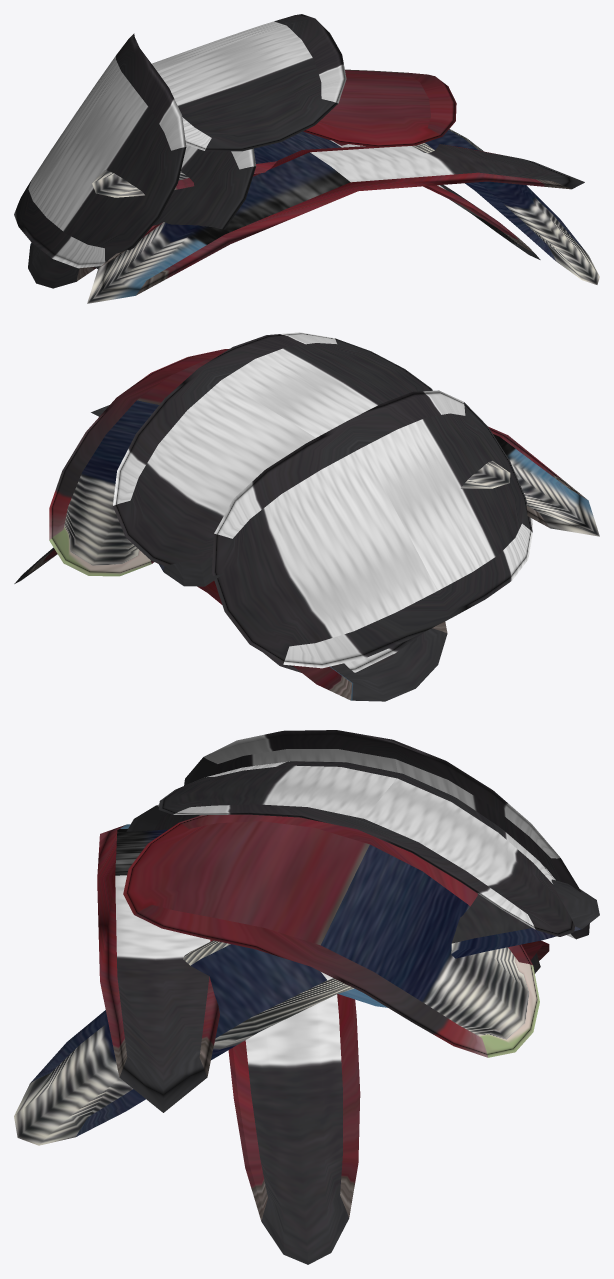
File: Monton ropa.fbx
3 views of the same model, one above another, from view 1: azimuth 30°, elevation 25°; view 2: azimuth 150°, elevation 25°; view 3: azimuth 270°, elevation 25° (orthographic). The views are drawn at different scales.
Parts seen in each view (by area): view 1: Cube.007, Cube.005, Cube.006, Cube.003, Cube.004, Cube.001, Cube, Cube.002; view 2: Cube.007, Cube.006, Cube.003, Cube.002, Cube.005, Cube, Cube.001, Cube.004; view 3: Cube.003, Cube, Cube.006, Cube.001, Cube.005, Cube.007, Cube.004, Cube.002.
Boxes of the visible parts, x1,y1,x2,y2 form: Cube.007: (14,33,186,268); Cube.005: (87,144,584,303); Cube.006: (152,14,346,151); Cube.003: (303,69,456,147); Cube.004: (94,144,256,268); Cube.001: (412,129,599,284); Cube: (92,131,540,259); Cube.002: (28,141,347,288); Cube.007: (211,390,532,668); Cube.006: (113,332,432,565); Cube.003: (49,349,228,576); Cube.002: (157,563,447,701); Cube.005: (91,405,599,536); Cube: (14,460,510,583); Cube.001: (159,557,223,586); Cube.004: (264,517,532,672); Cube.003: (123,814,539,1057); Cube: (228,994,360,1264); Cube.006: (158,761,574,936); Cube.001: (14,879,599,1145); Cube.005: (97,824,219,1112); Cube.007: (184,730,589,939); Cube.004: (126,804,540,973); Cube.002: (338,940,549,1007).
Size of the model in its own units: 481 by 251 by 407.
Materials: 1 (1 with a texture image).
